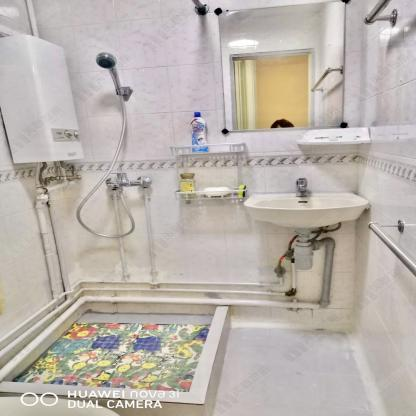Toilet Sink: (243, 192, 368, 228)
Water Cubicle: (0, 303, 232, 416)
Water Heater: (0, 34, 86, 164)
